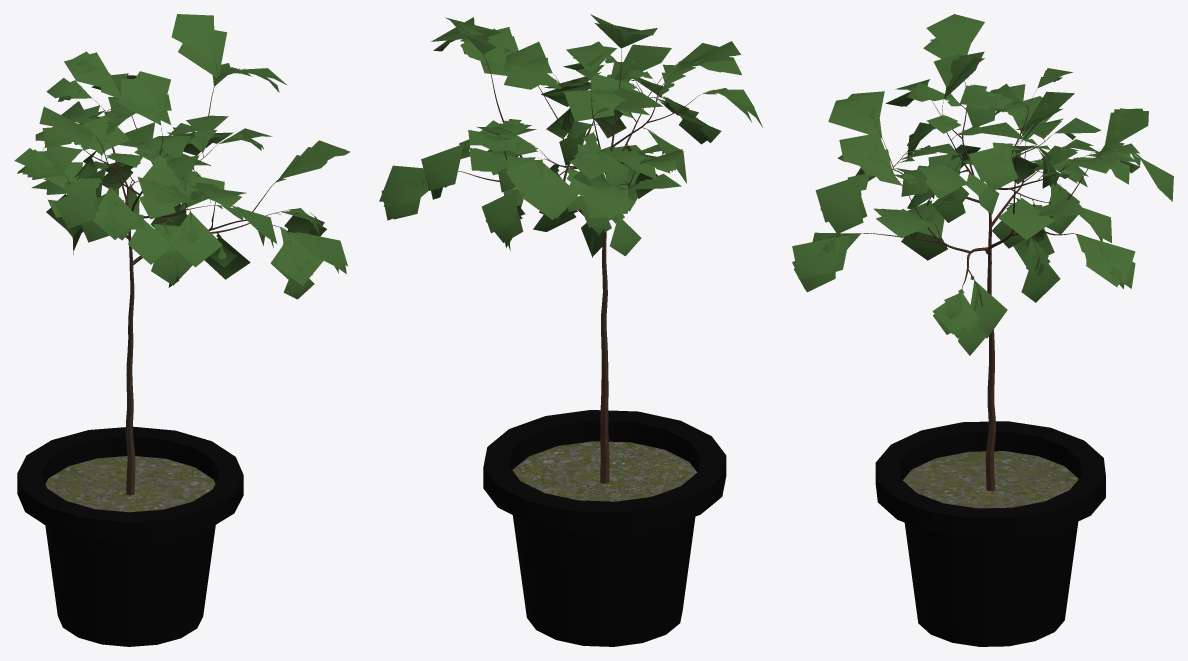
Rendered from sinnsitu_tree.fbx.
The picture shows the model from 3 angles, left to right: view 1: azimuth 30°, elevation 25°; view 2: azimuth 150°, elevation 25°; view 3: azimuth 270°, elevation 25°; orthographic projection. The views are drawn at different scales.
Visible parts, largest first — view 1: 円柱.004; view 2: 円柱.004; view 3: 円柱.004.
Part boxes in pixels (left/top/right/bottom): 円柱.004: left=14, top=14, right=350, bottom=646; 円柱.004: left=379, top=14, right=762, bottom=646; 円柱.004: left=792, top=14, right=1173, bottom=646.
Size of the model in its own units: 94.77 by 172 by 105.
